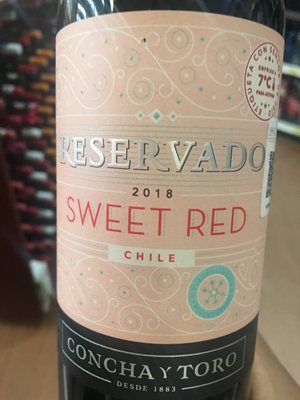reservado sweet red: (50, 2, 286, 390)
